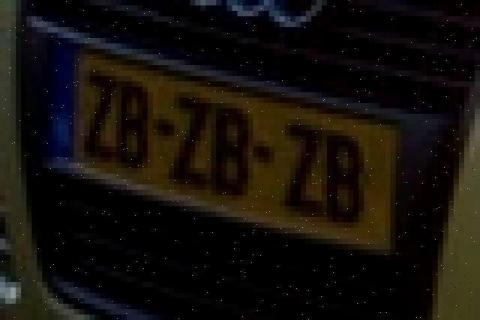LicensePlate: (52, 34, 407, 260)
